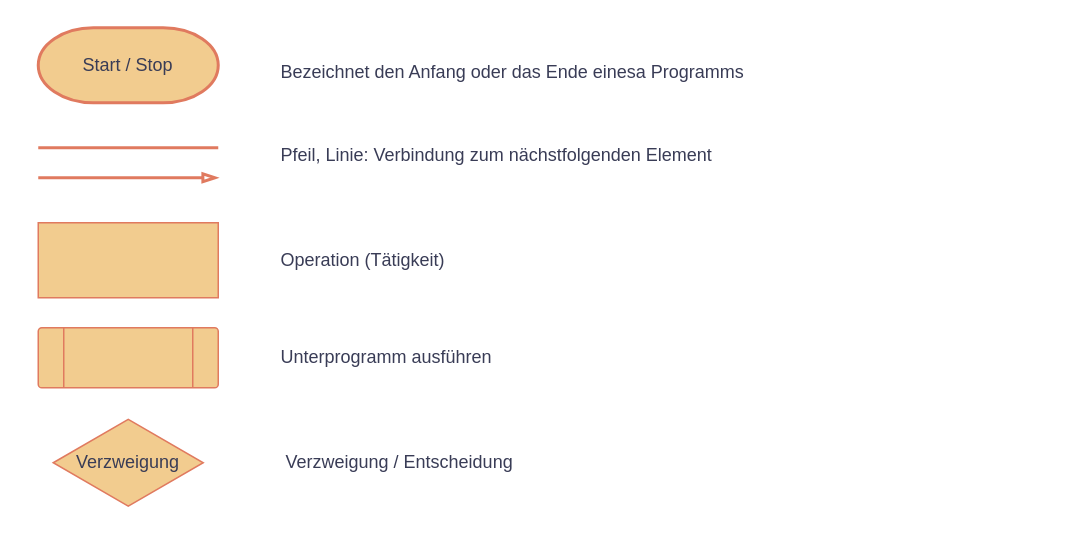
Image size: 1083x534. Some labels were removed from this diagram. Here are the shapes that lost their labels. From the top down, the centre of each, then its label:
At [127,259]: "Operation".
At [127,357]: "Unterprogramm".
